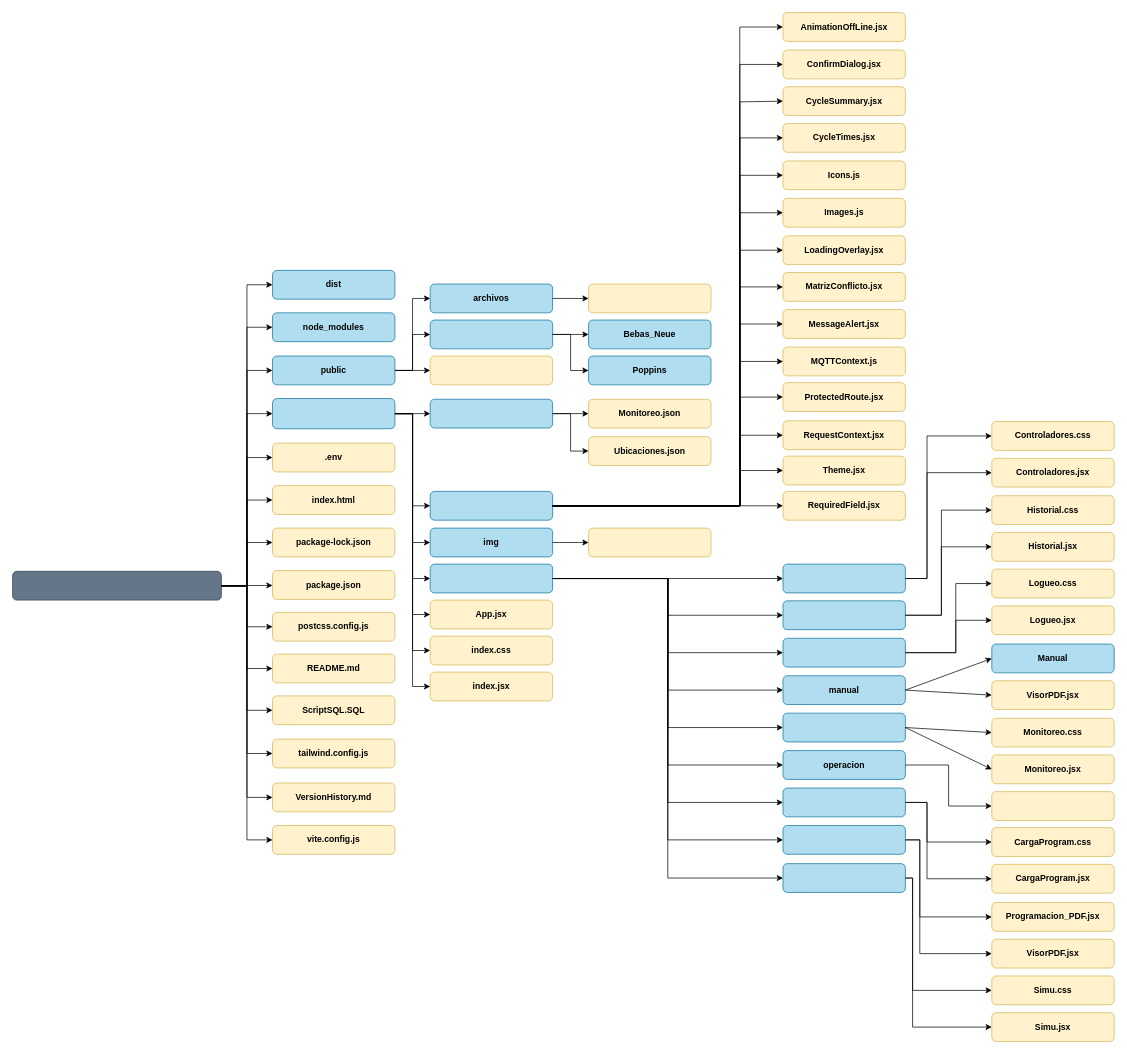
Some shapes in this 1127 by 1054 pixel diagram are drawn without their labels. The shapes that lost their labels are listed below. From the top down, each one's box as (x1, y1, x2, y2) in pixels, then its label:
(588, 283, 711, 313): Guia-Instalacion-Centurion.pdf
(429, 319, 553, 349): fuentes
(429, 355, 553, 385): favicon.ico
(272, 398, 395, 429): src
(429, 399, 553, 428): APIs
(429, 491, 553, 520): components
(588, 527, 711, 557): logoTL.png
(12, 571, 221, 600): REACT-APP-SEM-INTERFACE
(429, 563, 553, 593): modulos
(782, 563, 905, 593): controladores
(782, 600, 905, 630): historial
(782, 638, 905, 667): logueo
(782, 712, 905, 742): monitoreo
(782, 787, 905, 817): programacion
(991, 791, 1114, 820): Operacion.jsx
(782, 825, 905, 854): reportes
(782, 863, 905, 892): simulador
